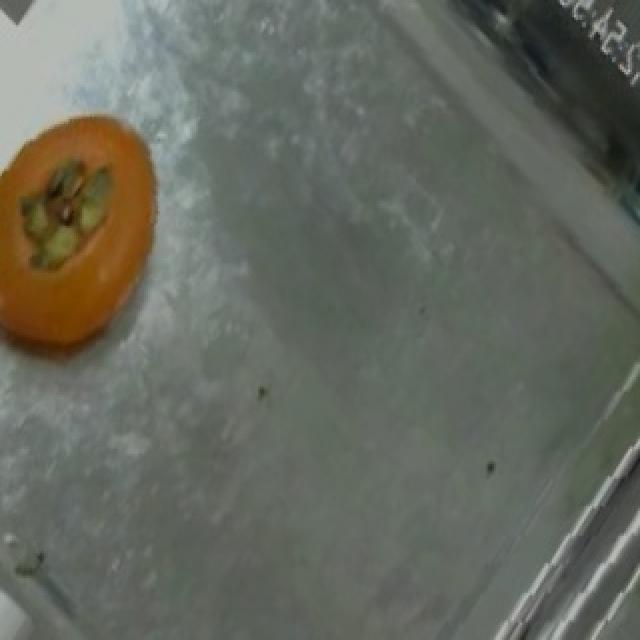Fruit: (0, 87, 186, 384)
